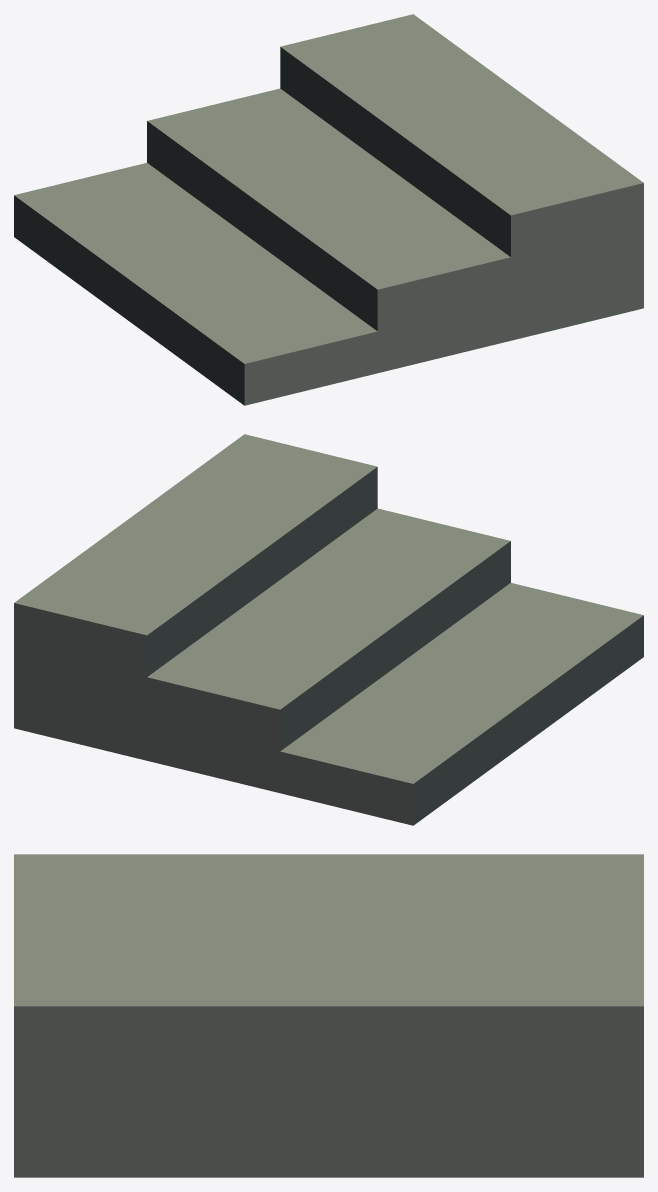
File: TW_STEPS_LOW3_A_LOD0.glb
The picture shows the model from 3 angles, top to bottom: view 1: azimuth 30°, elevation 25°; view 2: azimuth 150°, elevation 25°; view 3: azimuth 270°, elevation 25°; orthographic projection. The views are drawn at different scales.
Parts seen in each view (by area): view 1: TW_STEPS_LOW3_A_LOD0; view 2: TW_STEPS_LOW3_A_LOD0; view 3: TW_STEPS_LOW3_A_LOD0.
Boxes of the visible parts, <box> form: TW_STEPS_LOW3_A_LOD0: <box>14,14,643,405</box>; TW_STEPS_LOW3_A_LOD0: <box>14,434,643,825</box>; TW_STEPS_LOW3_A_LOD0: <box>14,854,643,1177</box>.
Bounding box in the file's own units: 1.2 × 0.36 × 1.2.
1 material, 1 textured.
